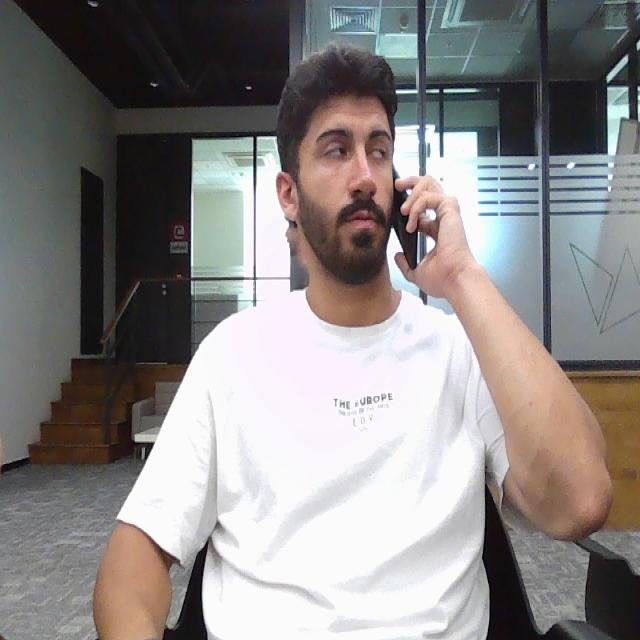phone: (391, 168, 424, 267)
